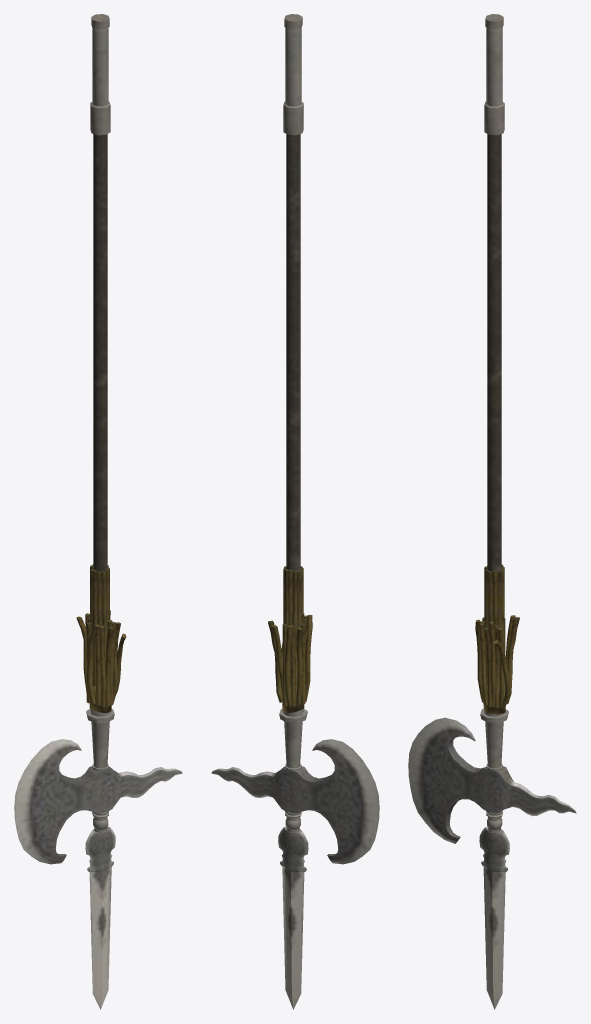
File: weapon-wp_a_1003.glb
The picture shows the model from 3 angles, left to right: view 1: azimuth 30°, elevation 25°; view 2: azimuth 150°, elevation 25°; view 3: azimuth 330°, elevation 25°; orthographic projection.
Parts seen in each view (by area): view 1: wp_a_1003_mesh; view 2: wp_a_1003_mesh; view 3: wp_a_1003_mesh.
Part boxes in pixels (bbox=[...]): wp_a_1003_mesh: bbox=[14, 14, 182, 1009]; wp_a_1003_mesh: bbox=[211, 14, 379, 1009]; wp_a_1003_mesh: bbox=[408, 14, 576, 1009].
Bounding box in the file's own units: 0.4712 × 2.65 × 0.1129.
2 materials, 2 textured.
